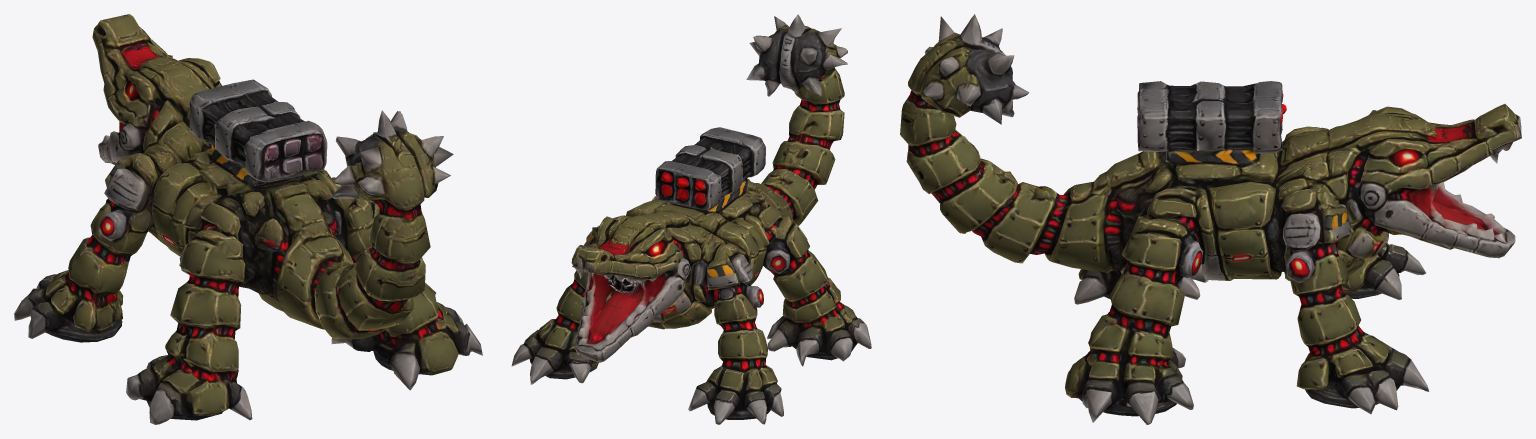
Rendered from charlie.glb.
3 views of the same model, side by side, from view 1: azimuth 30°, elevation 25°; view 2: azimuth 150°, elevation 25°; view 3: azimuth 270°, elevation 25° (orthographic). The views are drawn at different scales.
Visible parts, largest first — view 1: model; view 2: model; view 3: model.
Part boxes in pixels (x1,y1,x2,y2): model: [14, 14, 482, 424]; model: [511, 14, 871, 424]; model: [900, 14, 1521, 424].
Bounding box in the file's own units: 0.6298 × 0.5941 × 1.
Materials: 1 (1 with a texture image).
